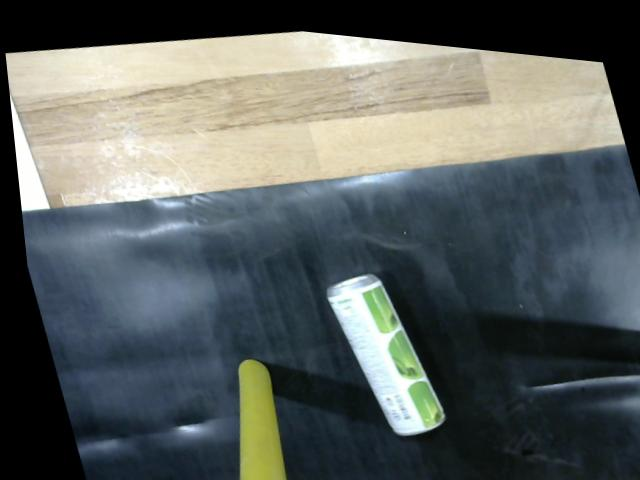can: (316, 256, 452, 434)
